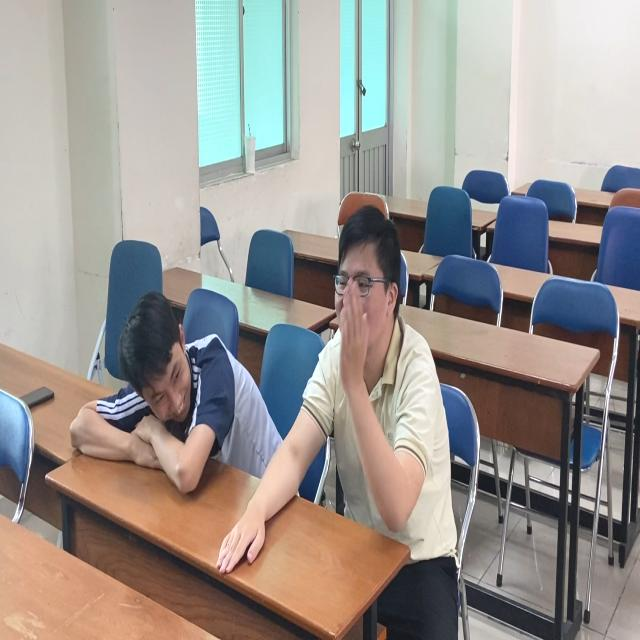raise_hand: (266, 193, 461, 583)
